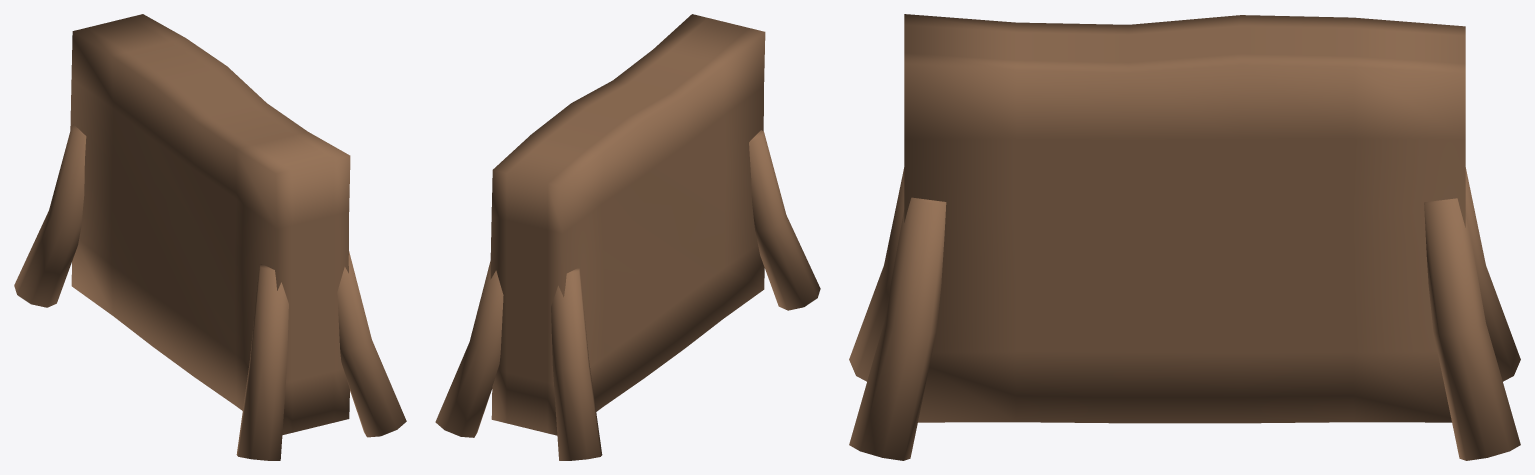
The model's file is SM_Forest_TwistedRootWall.fbx.
3 renders of one model, left to right at view 1: azimuth 30°, elevation 25°; view 2: azimuth 150°, elevation 25°; view 3: azimuth 270°, elevation 25°, orthographic. The views are drawn at different scales.
Visible parts, largest first — view 1: SM_Forest_TwistedRootWall; view 2: SM_Forest_TwistedRootWall; view 3: SM_Forest_TwistedRootWall.
Boxes of the visible parts, box(x1,y1,x2,y2) form: SM_Forest_TwistedRootWall: box(14, 14, 406, 460); SM_Forest_TwistedRootWall: box(435, 14, 820, 460); SM_Forest_TwistedRootWall: box(849, 14, 1520, 460).
Size of the model in its own units: 214 by 344 by 550.
